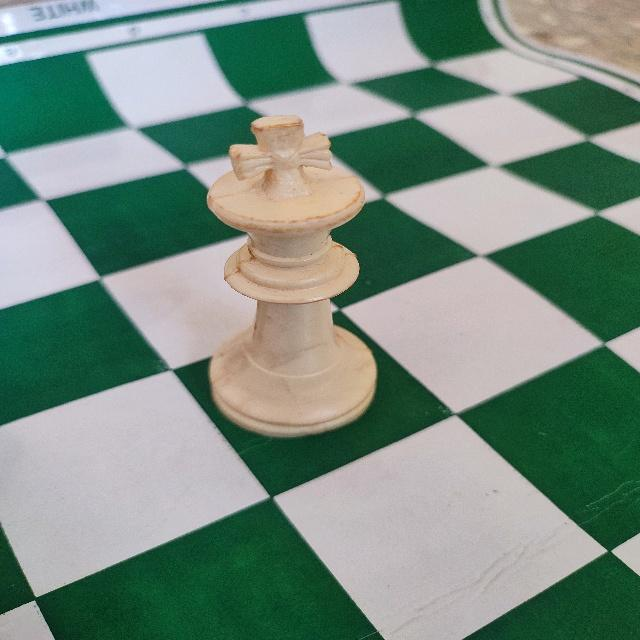King: (202, 113, 382, 446)
